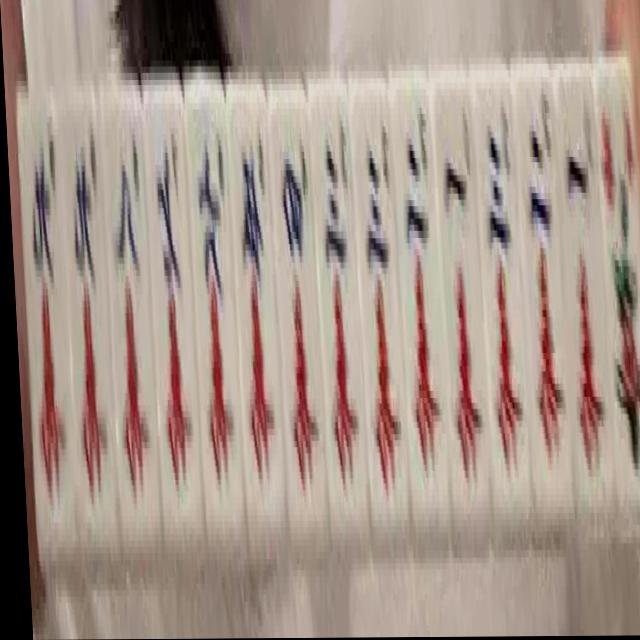ff4: (594, 90, 640, 497)
m1: (555, 86, 611, 486), (434, 91, 489, 487)
m2: (389, 99, 450, 499), (511, 82, 570, 488)
m3: (309, 96, 369, 507), (471, 74, 528, 485), (350, 104, 407, 490)
m4: (268, 97, 327, 507)
m5: (225, 76, 287, 520)
m6: (185, 93, 245, 498)
m7: (142, 97, 204, 521)
m8: (101, 93, 161, 507)
m9: (15, 90, 79, 526), (58, 122, 120, 523)
